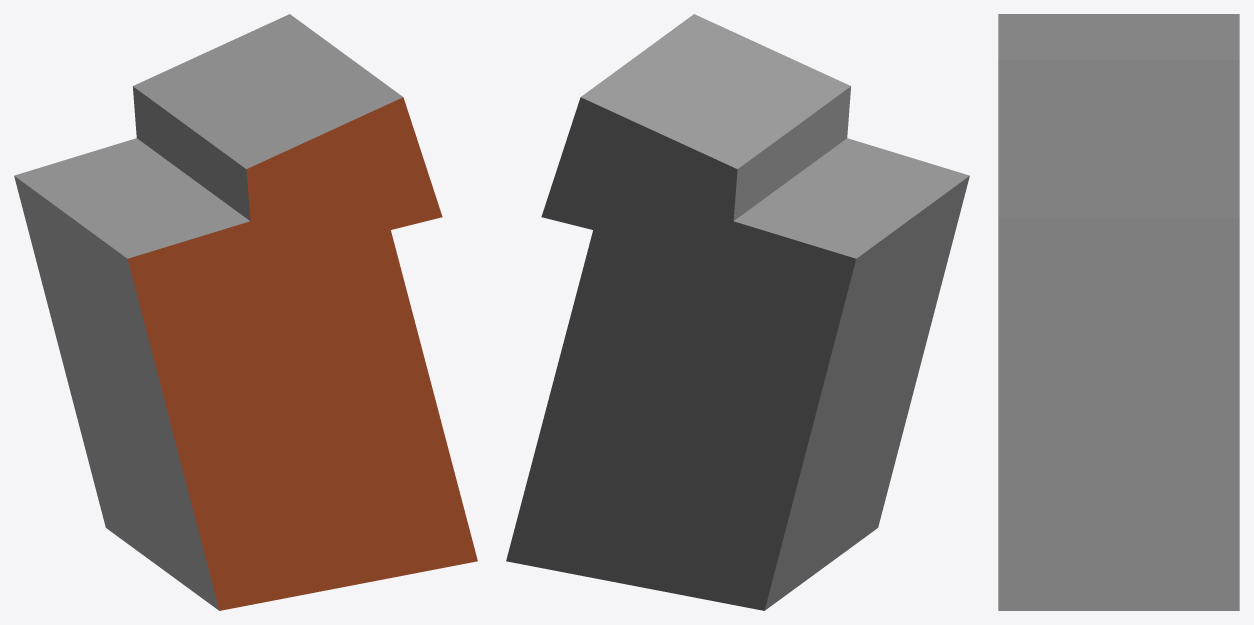
Rendered from construction_6232_assumed_A_Casa_h6m.obj.
3 renders of one model, left to right at view 1: azimuth 30°, elevation 25°; view 2: azimuth 150°, elevation 25°; view 3: azimuth 270°, elevation 25°, orthographic. The views are drawn at different scales.
Parts seen in each view (by area): view 1: construction_6232_assumed_A_Casa; view 2: construction_6232_assumed_A_Casa; view 3: construction_6232_assumed_A_Casa.
Boxes of the visible parts, x1,y1,x2,y2 form: construction_6232_assumed_A_Casa: (14,14,477,610); construction_6232_assumed_A_Casa: (506,14,969,610); construction_6232_assumed_A_Casa: (998,14,1239,610).
Bounding box in the file's own units: 10.68 × 14.05 × 6.
